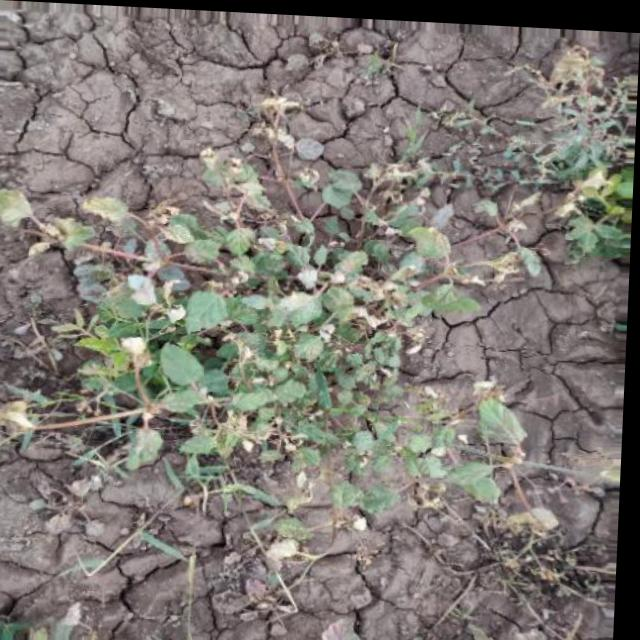weed: (20, 135, 500, 445)
